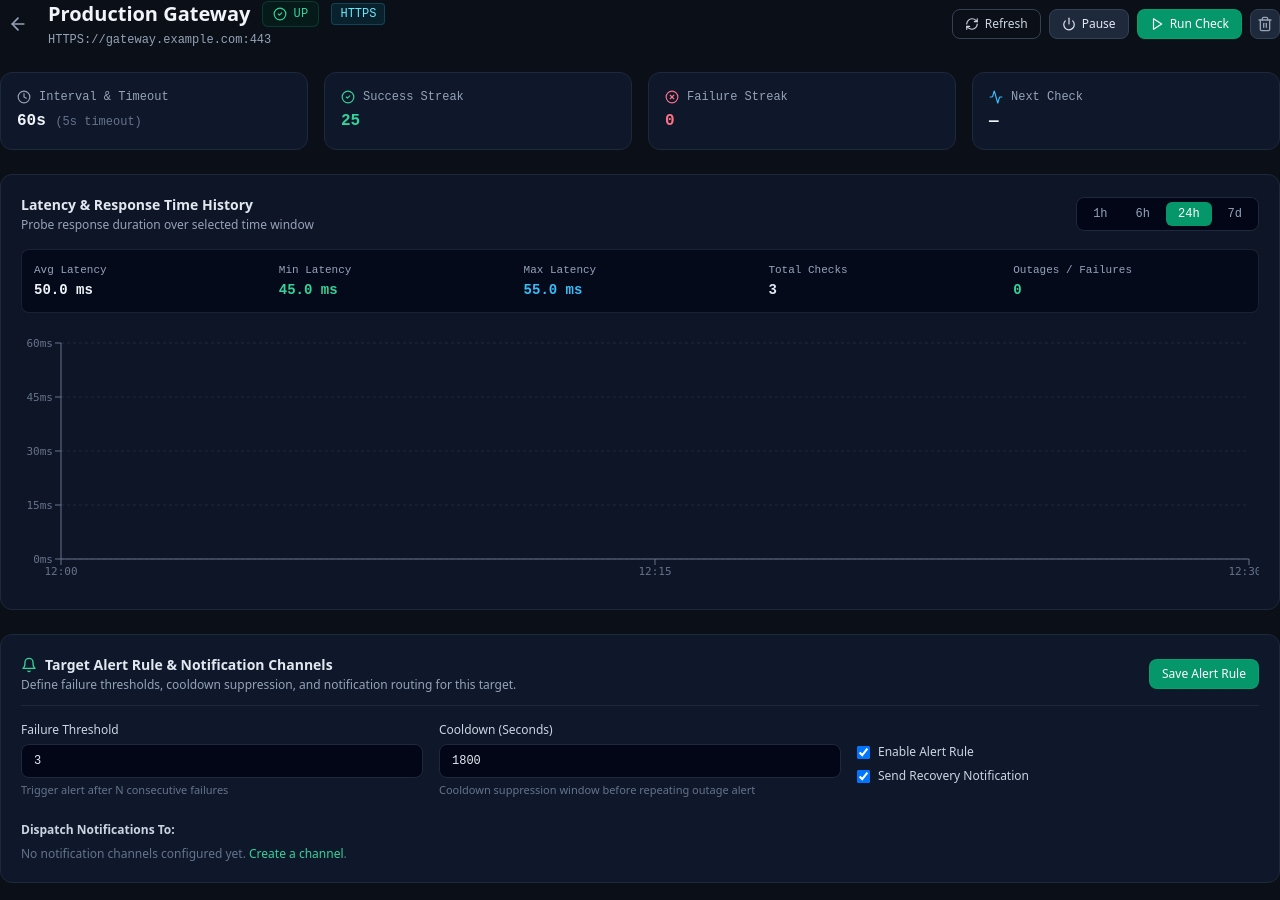
Test: TargetDetailPage › opens delete modal and can cancel
Click the button named "delete target" at (1265, 24), box [1250,9,1279,39]
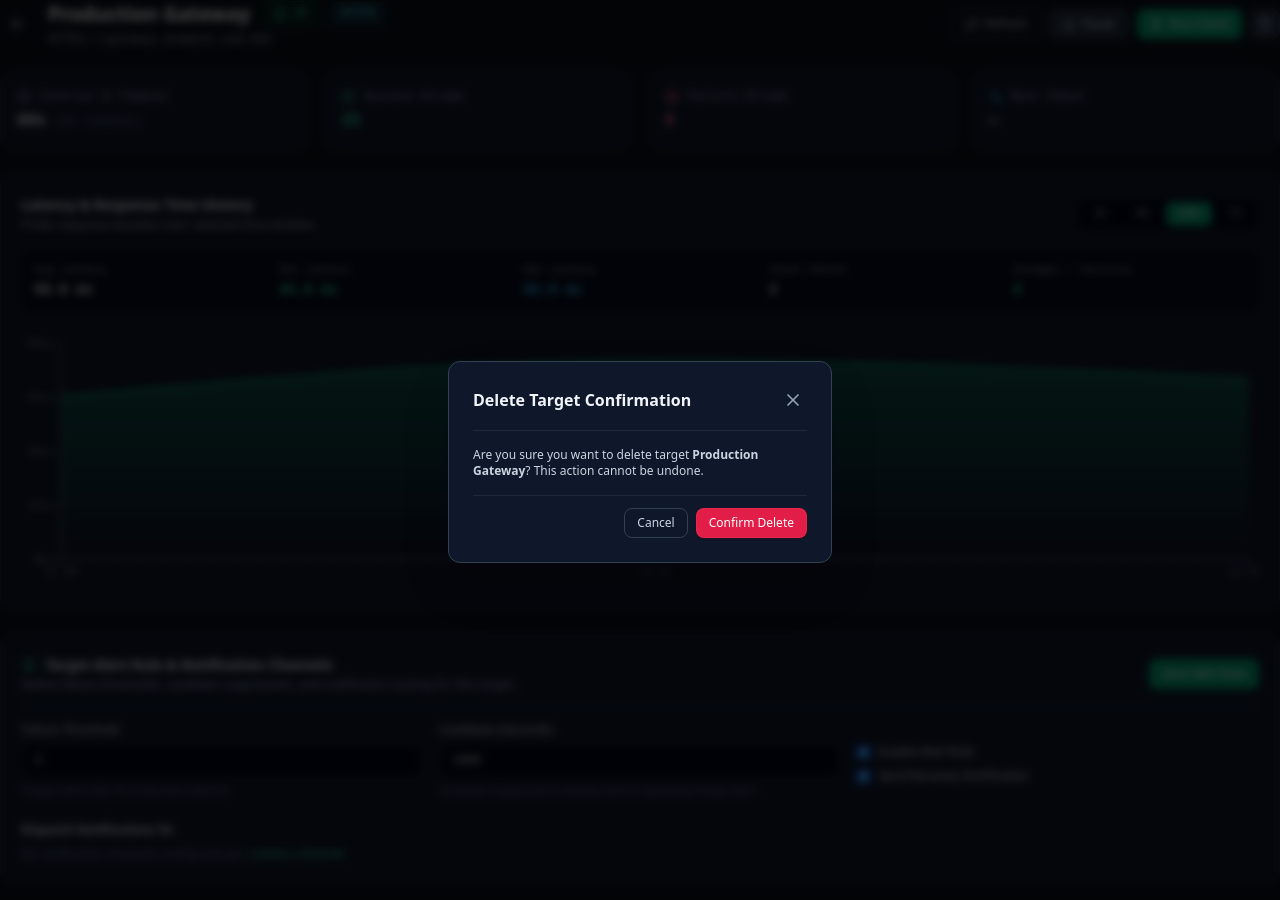
expect the heading "Delete Target Confirmation" is shown: met, box [473,388,691,412]
expect the text "Are you sure you want to delete target" is shown: met, box [473,446,692,463]
Click the button "Cancel" at (656, 523), box [624,508,688,538]
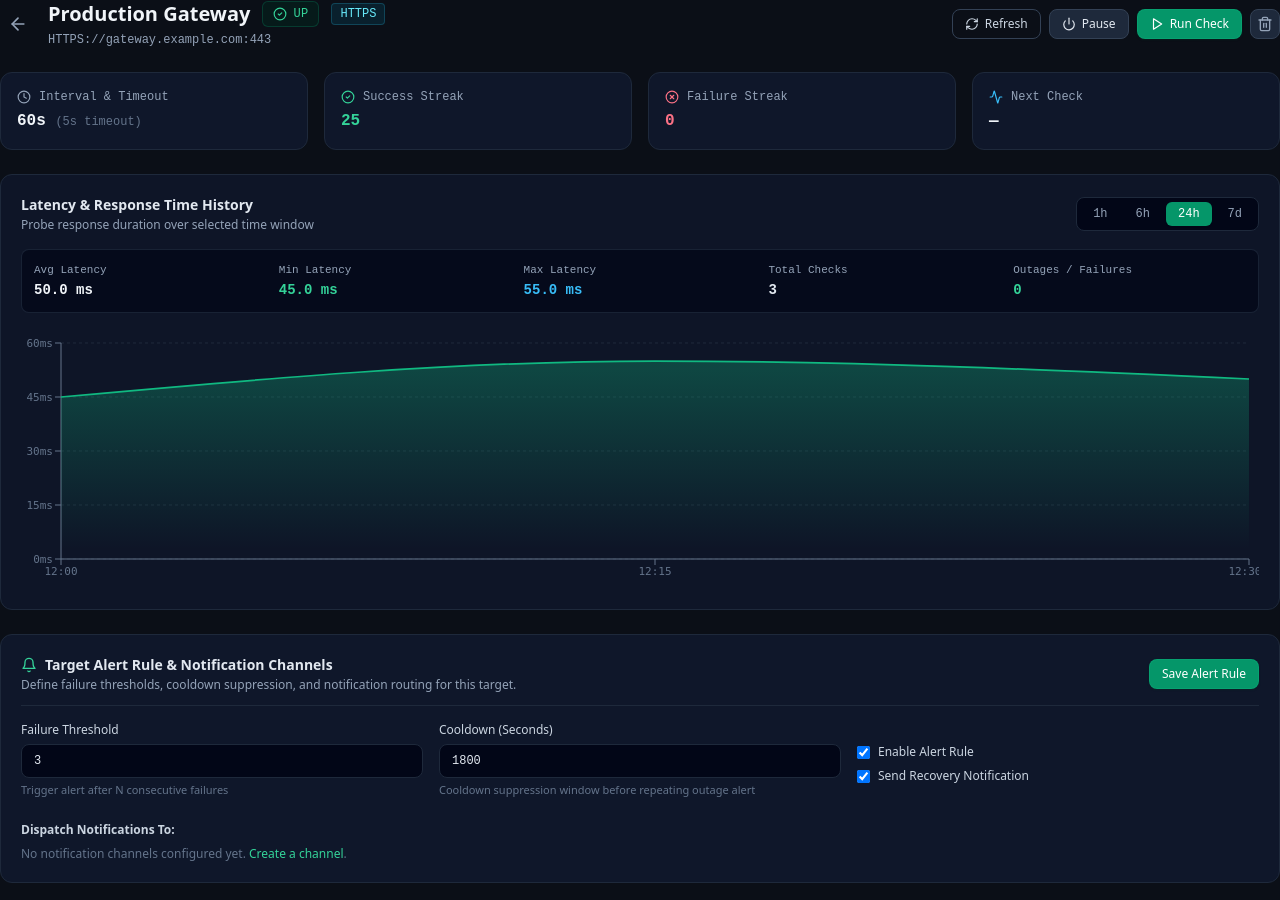
expect the heading "Delete Target Confirmation" is gone: met
